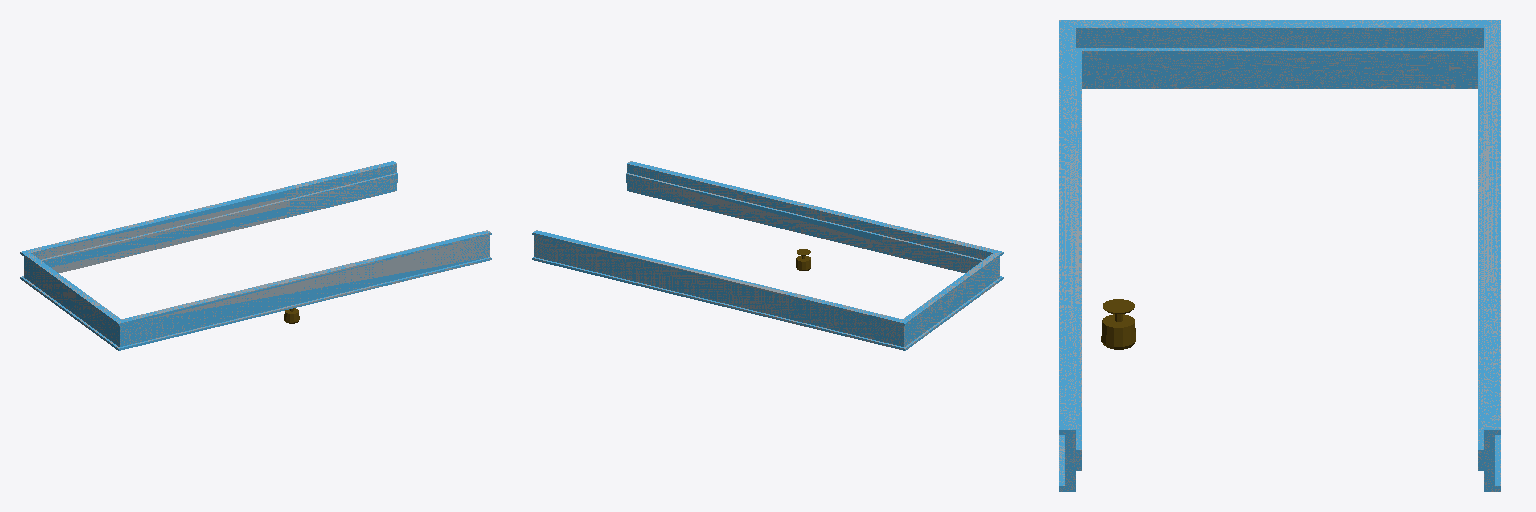
The robot description file, URDF, robot "right-pull-door":
<?xml version="1.0" ?>
<robot name="right-pull-door">
	<link name="base"/>
	<link name="link_0">
		<visual name="out-frame">
			<origin xyz="0 0 0"/>
			<geometry>
				<mesh filename="texture_dae/frame.dae" scale="0.8399853304298655 0.8399853304298655 0.8399853304298655"/>
			</geometry>
		</visual>
		<collision>
			<origin xyz="0 0 0"/>
			<geometry>
				<mesh filename="texture_dae/frame.dae" scale="0.8399853304298655 0.8399853304298655 0.8399853304298655"/>
			</geometry>
		</collision>
	</link>
	<joint name="joint_0" type="fixed">
		<origin rpy="1.570796326794897 0 -1.570796326794897" xyz="0 0 0"/>
		<child link="link_0"/>
		<parent link="base"/>
	</joint>
	<link name="link_1">
		<visual name="surf-board">
			<origin xyz="0.3841822309937481 -0.8844961818658676 0"/>
			<geometry>
				<mesh filename="texture_dae/board.dae" scale="0.8399853304298655 0.8399853304298655 0.8399853304298655"/>
			</geometry>
		</visual>
		<collision>
			<origin xyz="0.3841822309937481 -0.8844961818658676 0"/>
			<geometry>
				<mesh filename="texture_dae/board.dae" scale="0.8399853304298655 0.8399853304298655 0.8399853304298655"/>
			</geometry>
		</collision>
	</link>
	<joint name="joint_1" type="revolute">
		<origin xyz="-0.3841822309937481 0.8844961818658676 0"/>
		<axis xyz="0 -1 0"/>
		<child link="link_1"/>
		<parent link="link_0"/>
		<limit lower="0" upper="1.5079644737231006"/>
	</joint>
	<link name="link_2">
		<visual name="handle">
			<origin xyz="0 0 0"/>
			<geometry>
				<mesh filename="texture_dae/9962004.dae" scale="1.4108976059983194 1.4108976059983194 1.4108976059983194"/>
			</geometry>
		</visual>
		<collision>
			<origin xyz="0 0 0"/>
			<geometry>
				<mesh filename="texture_dae/9962004.dae" scale="1.4108976059983194 1.4108976059983194 1.4108976059983194"/>
			</geometry>
		</collision>
	</link>
	<joint name="joint_2" type="revolute">
		<origin xyz="0.6880825784947107 -0.9868587725623967 0.00383607947043606"/>
		<child link="link_2"/>
		<parent link="link_1"/>
		<axis xyz="0 0 1"/>
		<limit lower="0" upper="1.5079644737231006"/>
	</joint>
</robot>

--- Facts derived from the render (not from the file) ---
The picture shows the robot from 3 angles, left to right: view 1: azimuth 30°, elevation 25°; view 2: azimuth 150°, elevation 25°; view 3: azimuth 270°, elevation 25°; orthographic projection.
Robot: right-pull-door — 4 links, 3 joints (2 revolute, 1 fixed); root link base; default pose: all joints at 0.
Links seen in each view (by area): view 1: link_0; view 2: link_0; view 3: link_0, link_2.
Boxes of the visible links, left/top/right/bottom form: link_0: left=20, top=161, right=491, bottom=350; link_0: left=532, top=161, right=1003, bottom=350; link_0: left=1059, top=20, right=1500, bottom=491; link_2: left=1101, top=299, right=1135, bottom=349.
Size in the robot's own frame: 1.82 by 0.8321 by 0.2452 metres.
Meshes: 3 distinct files referenced, 2 mesh visuals loaded (2 Collada DAE); not drawn: 1 (reference not matched to a file when rendering).
